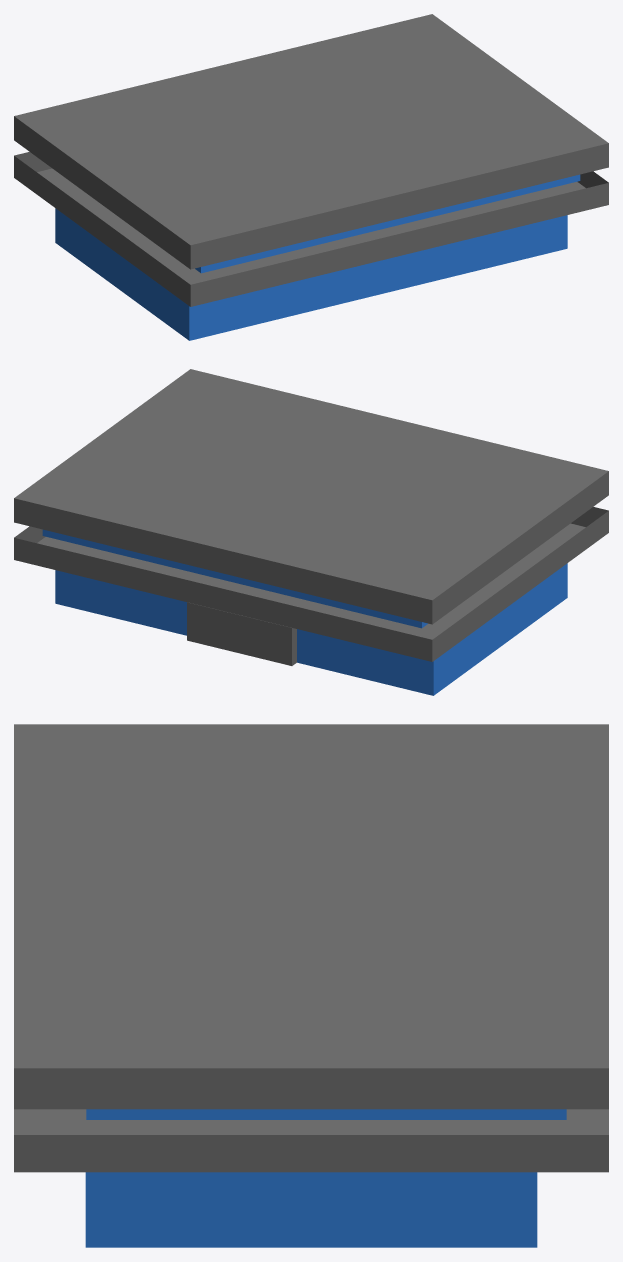
The model's file is edifGobierno.fbx.
3 renders of one model, top to bottom at view 1: azimuth 30°, elevation 25°; view 2: azimuth 150°, elevation 25°; view 3: azimuth 270°, elevation 25°, orthographic. The views are drawn at different scales.
Parts seen in each view (by area): view 1: Cube.001; view 2: Cube.001; view 3: Cube.001.
Boxes of the visible parts, x1,y1,x2,y2 form: Cube.001: (14, 14, 608, 340); Cube.001: (14, 369, 608, 695); Cube.001: (14, 724, 608, 1247).
Bounding box in the file's own units: 3383 × 897 × 2473.
